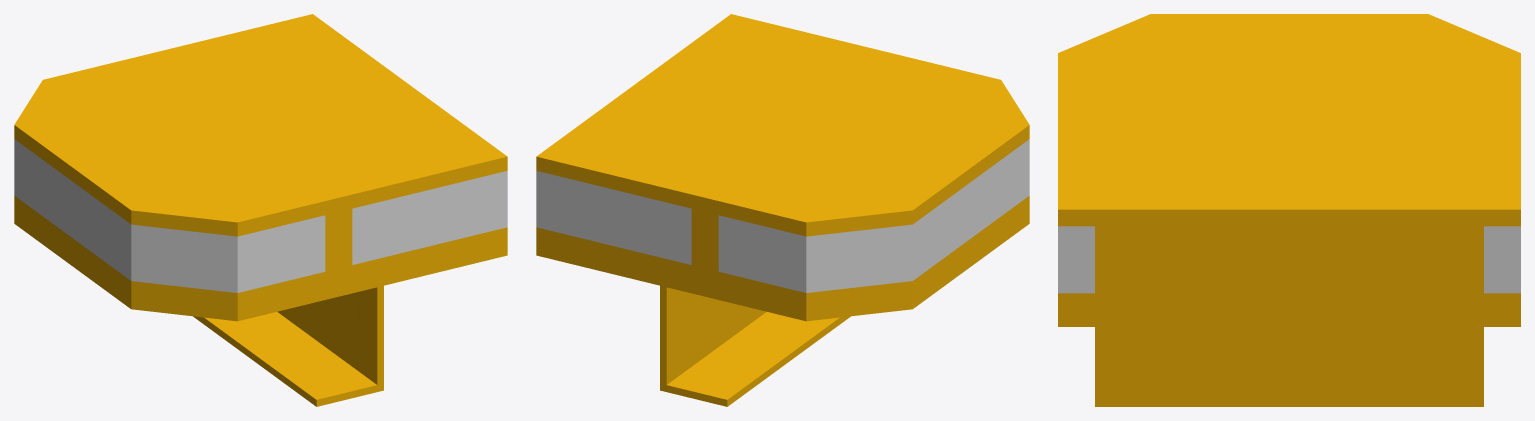
Rendered from beacon_light_mount.dae.
3 views of the same model, side by side, from view 1: azimuth 30°, elevation 25°; view 2: azimuth 150°, elevation 25°; view 3: azimuth 270°, elevation 25° (orthographic). The views are drawn at different scales.
Visible parts, largest first — view 1: Cube; view 2: Cube; view 3: Cube.
Part boxes in pixels (left/top/right/bottom): Cube: left=14, top=14, right=507, bottom=406; Cube: left=536, top=14, right=1029, bottom=406; Cube: left=1058, top=14, right=1520, bottom=406.
Size of the model in its own units: 0.25 by 0.25 by 0.155.
